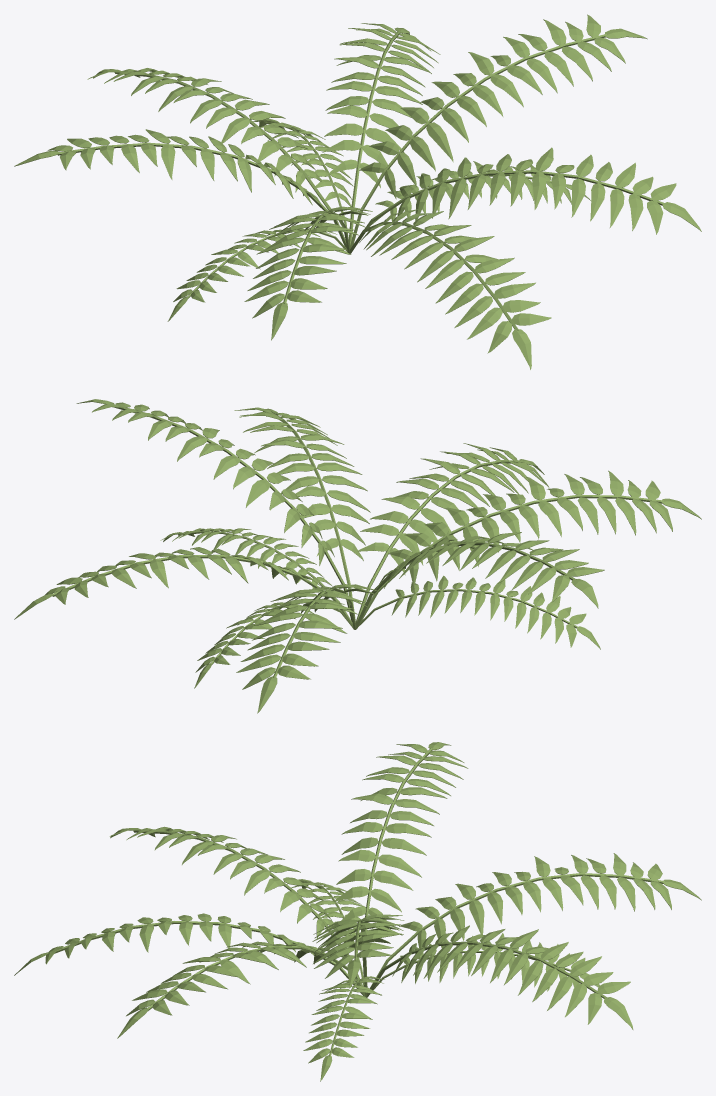
The model's file is ManleyPaige_FernSmall.fbx.
The picture shows the model from 3 angles, top to bottom: view 1: azimuth 30°, elevation 25°; view 2: azimuth 150°, elevation 25°; view 3: azimuth 270°, elevation 25°; orthographic projection. The views are drawn at different scales.
Visible parts, largest first — view 1: SmallFern; view 2: SmallFern; view 3: SmallFern.
Boxes of the visible parts, left/top/right/bottom form: SmallFern: left=14, top=14, right=701, bottom=369; SmallFern: left=14, top=399, right=701, bottom=713; SmallFern: left=14, top=742, right=701, bottom=1081.
Bounding box in the file's own units: 93.84 × 26.27 × 102.
